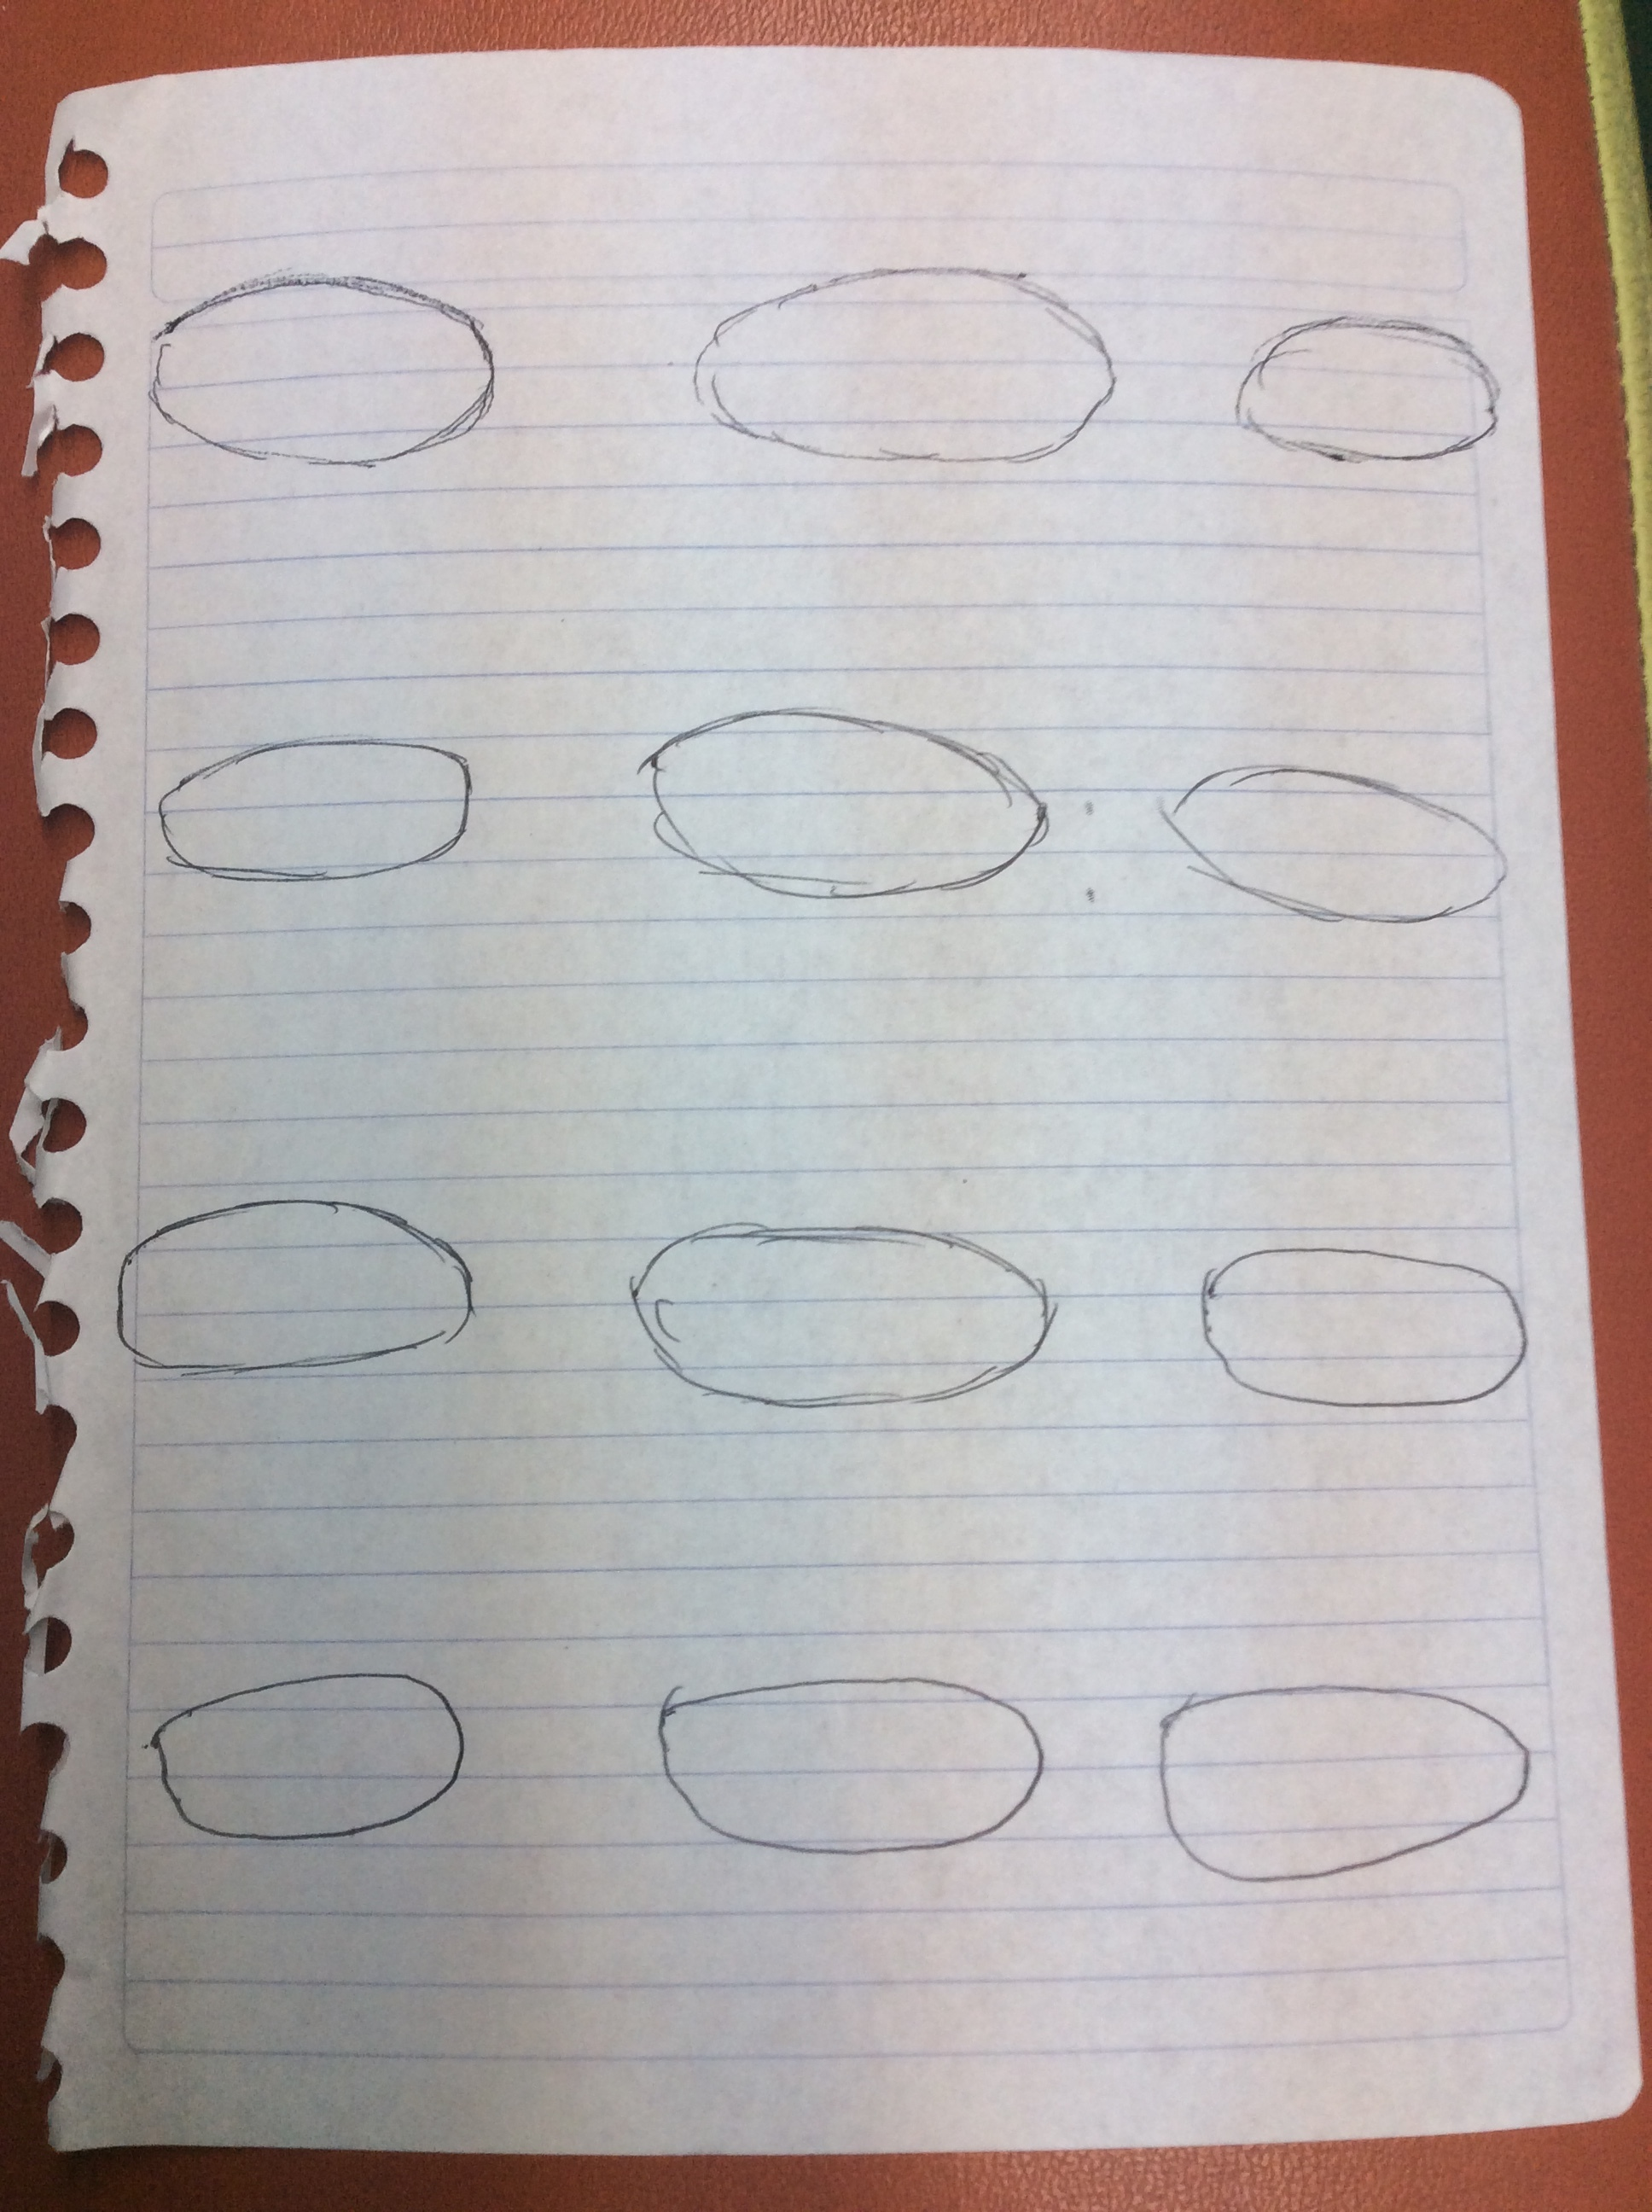start_end: (609, 1641, 1060, 1912), (585, 1192, 1078, 1436), (661, 246, 1138, 498), (609, 680, 1067, 932), (1124, 1659, 1555, 1898), (1142, 723, 1517, 973), (128, 1634, 489, 1891), (104, 1178, 496, 1404), (139, 264, 510, 501), (1166, 1221, 1548, 1433), (142, 720, 489, 904), (1199, 293, 1517, 491)
